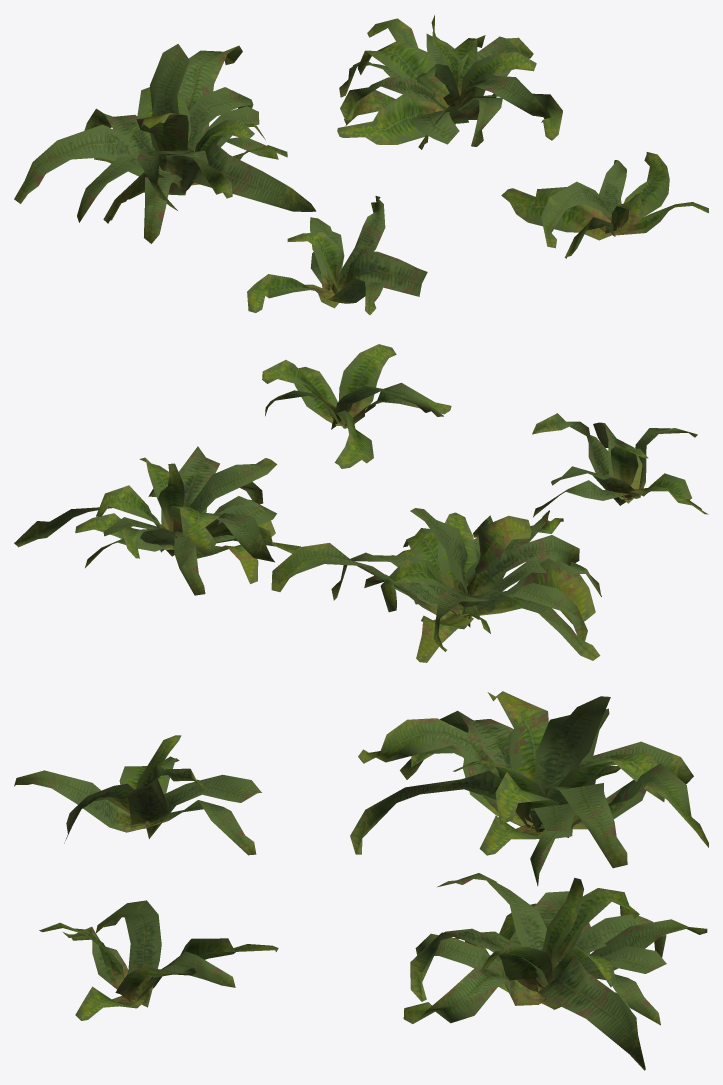
The model's file is fern_02-lod.glb.
3 renders of one model, top to bottom at view 1: azimuth 30°, elevation 25°; view 2: azimuth 150°, elevation 25°; view 3: azimuth 270°, elevation 25°, orthographic. The views are drawn at different scales.
Visible parts, largest first — view 1: fern_02_b, fern_02_c, fern_02_d, fern_02_a; view 2: fern_02_b, fern_02_c, fern_02_d, fern_02_a; view 3: fern_02_b, fern_02_c, fern_02_a, fern_02_d.
Part boxes in pixels (left/top/right/bottom): fern_02_b: left=14, top=44, right=315, bottom=243; fern_02_c: left=337, top=15, right=562, bottom=149; fern_02_d: left=501, top=152, right=708, bottom=258; fern_02_a: left=247, top=196, right=427, bottom=314; fern_02_b: left=271, top=508, right=601, bottom=662; fern_02_c: left=14, top=446, right=300, bottom=595; fern_02_d: left=262, top=344, right=451, bottom=468; fern_02_a: left=532, top=413, right=708, bottom=517; fern_02_b: left=350, top=691, right=708, bottom=886; fern_02_c: left=403, top=873, right=707, bottom=1070; fern_02_a: left=14, top=735, right=261, bottom=855; fern_02_d: left=39, top=900, right=278, bottom=1020.
Size of the model in its own units: 1.96 by 0.4277 by 1.72.
1 material, 1 textured.
